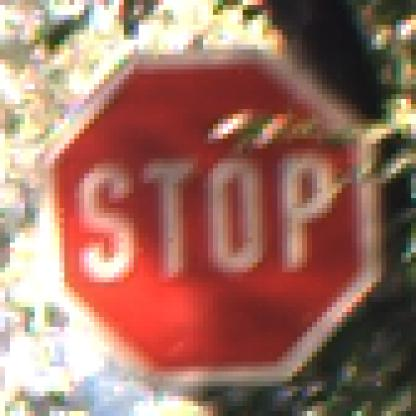stop: (40, 49, 390, 383)
